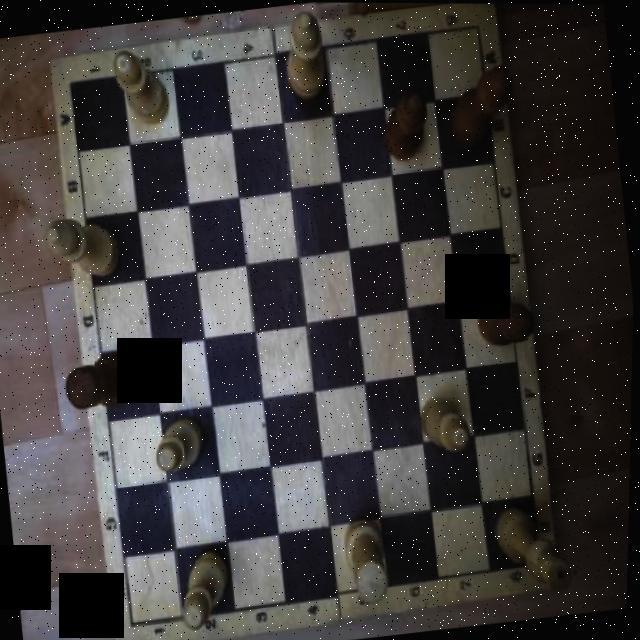chess-table-corners: (45, 48, 100, 121), (512, 524, 564, 590), (448, 3, 502, 61), (109, 586, 165, 640)
